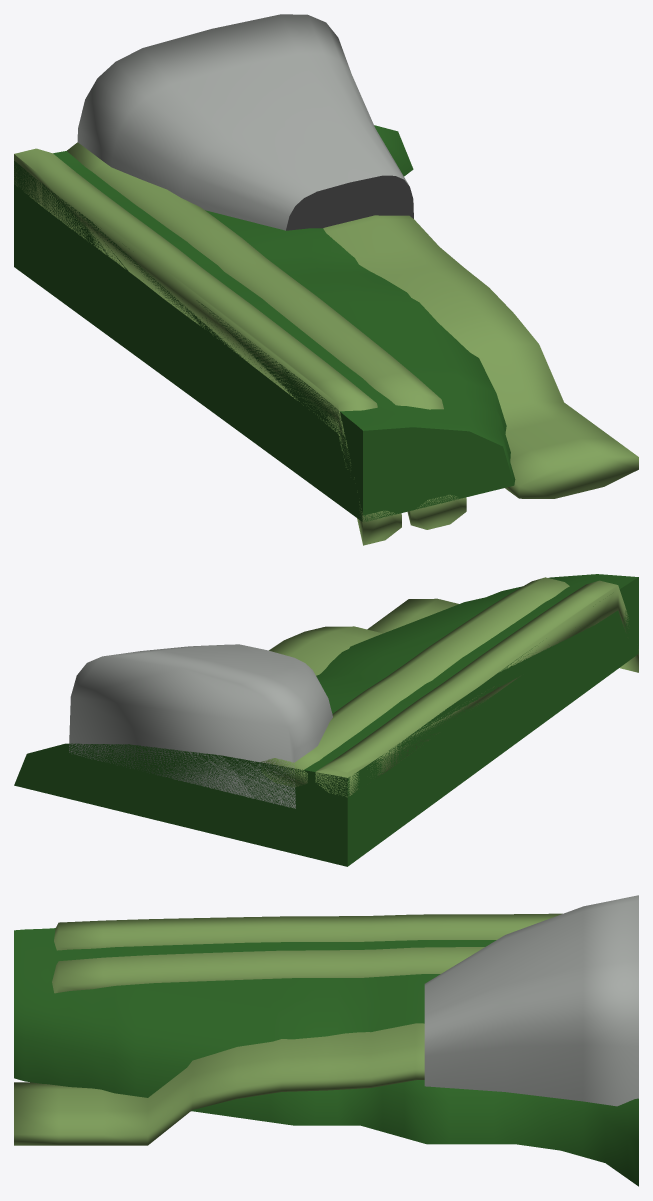
File: newshj-235.glb
3 renders of one model, top to bottom at view 1: azimuth 30°, elevation 25°; view 2: azimuth 150°, elevation 25°; view 3: azimuth 270°, elevation 25°, orthographic. The views are drawn at different scales.
Parts seen in each view (by area): view 1: newshj-235; view 2: newshj-235; view 3: newshj-235.
Part boxes in pixels (left/top/right/bottom): newshj-235: left=14, top=14, right=638, bottom=545; newshj-235: left=14, top=574, right=638, bottom=866; newshj-235: left=14, top=895, right=638, bottom=1186.
Bounding box in the file's own units: 1.54 × 0.7854 × 2.33.
